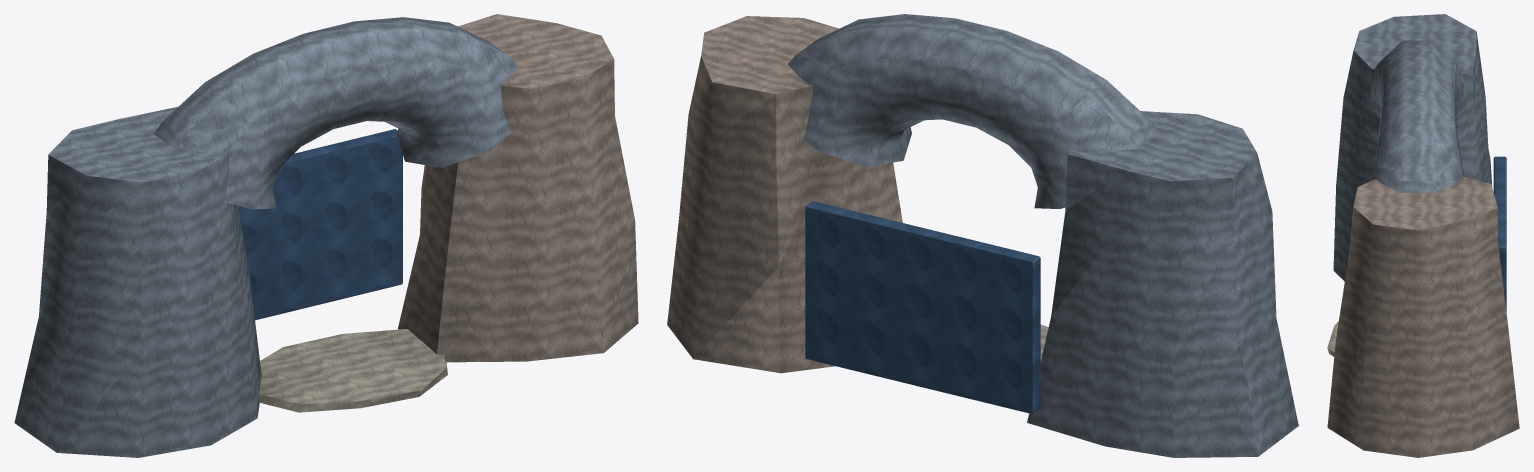
File: rock_mouth.glb
3 views of the same model, side by side, from view 1: azimuth 30°, elevation 25°; view 2: azimuth 150°, elevation 25°; view 3: azimuth 270°, elevation 25° (orthographic). The views are drawn at different scales.
Visible parts, largest first — view 1: DL015_RockMouth_stone_blue, DL015_RockMouth_stone_warm, DL015_RockMouth_shadow_blue, DL015_RockMouth_sediment; view 2: DL015_RockMouth_stone_blue, DL015_RockMouth_stone_warm, DL015_RockMouth_shadow_blue; view 3: DL015_RockMouth_stone_warm, DL015_RockMouth_stone_blue, DL015_RockMouth_shadow_blue, DL015_RockMouth_sediment.
Boxes of the visible parts, x1,y1,x2,y2 form: DL015_RockMouth_stone_blue: (14,17,518,457); DL015_RockMouth_stone_warm: (398,14,638,362); DL015_RockMouth_shadow_blue: (238,129,402,320); DL015_RockMouth_sediment: (259,329,447,412); DL015_RockMouth_stone_blue: (788,14,1298,457); DL015_RockMouth_stone_warm: (667,16,902,373); DL015_RockMouth_shadow_blue: (805,201,1040,414); DL015_RockMouth_stone_warm: (1327,176,1519,457); DL015_RockMouth_stone_blue: (1333,14,1492,281); DL015_RockMouth_shadow_blue: (1493,156,1506,311); DL015_RockMouth_sediment: (1327,321,1338,356).
Size of the model in its own units: 13.05 by 7.08 by 4.47.
4 materials, 4 textured.
